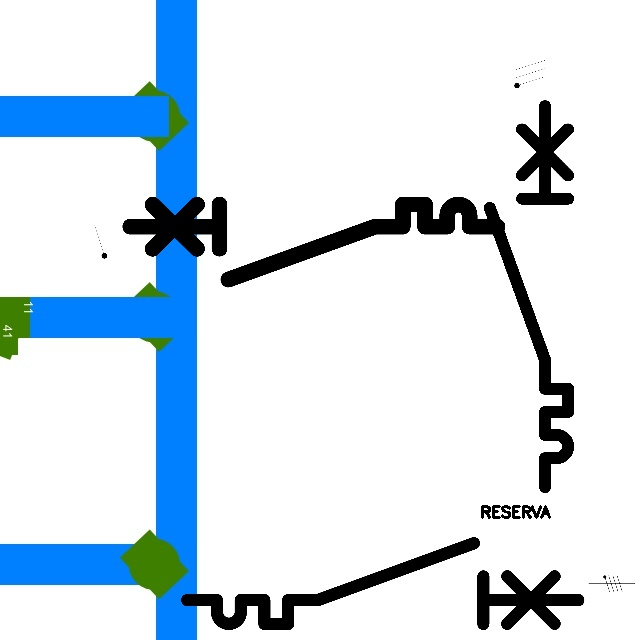interruptor_termomagnetico: (177, 533, 588, 634), (480, 96, 578, 497), (120, 195, 506, 289)
